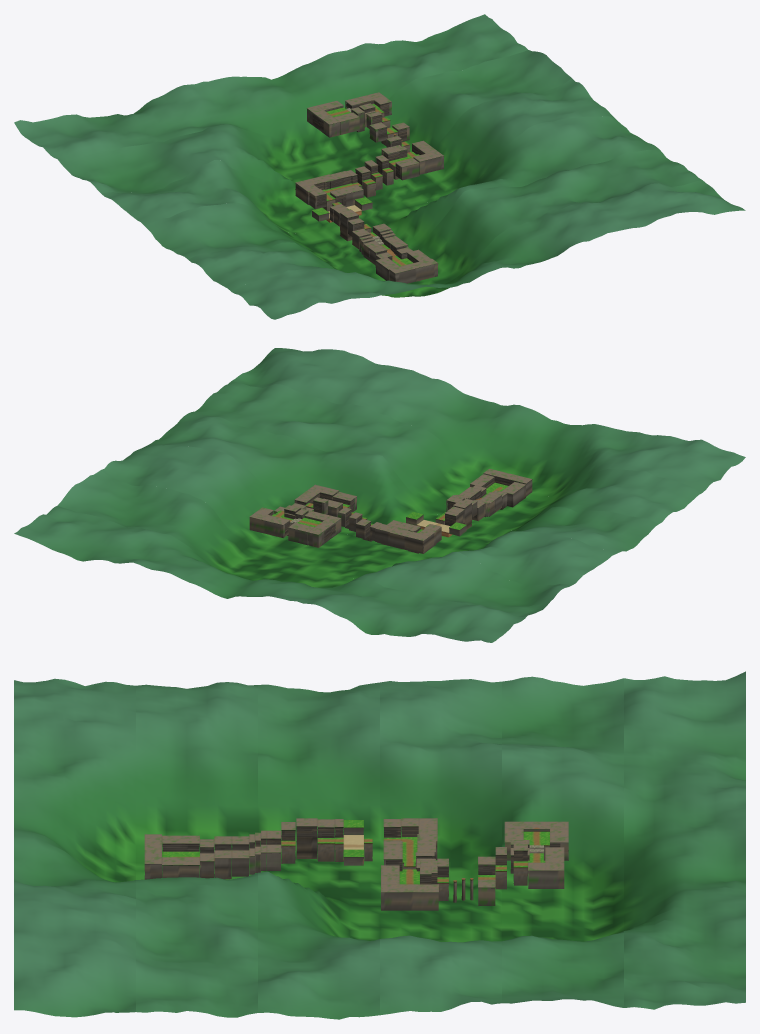
The model's file is sunset_summit_terrain.glb.
3 views of the same model, one above another, from view 1: azimuth 30°, elevation 25°; view 2: azimuth 150°, elevation 25°; view 3: azimuth 270°, elevation 25° (orthographic). The views are drawn at different scales.
Parts seen in each view (by area): view 1: backdrop_5, backdrop_4, backdrop_3, backdrop_2, backdrop_1, backdrop_0, terrain_I, terrain_E, terrain_G, terrain_B, terrain_A, terrain_F (+2 smaller); view 2: backdrop_0, backdrop_1, backdrop_3, backdrop_2, backdrop_5, backdrop_4, terrain_I, terrain_E, terrain_A, terrain_B, terrain_D, terrain_F (+2 smaller); view 3: backdrop_0, backdrop_5, backdrop_2, backdrop_1, backdrop_4, backdrop_3, terrain_G, terrain_I, terrain_B, terrain_A, terrain_C, terrain_E (+3 smaller).
Boxes of the visible parts, <box> form: backdrop_5: <box>14,14,527,161</box>; backdrop_4: <box>58,50,571,193</box>; backdrop_3: <box>101,78,614,233</box>; backdrop_2: <box>145,116,658,265</box>; backdrop_1: <box>188,149,701,295</box>; backdrop_0: <box>232,180,745,319</box>; terrain_I: <box>307,92,391,137</box>; terrain_E: <box>295,166,375,206</box>; terrain_G: <box>369,122,443,174</box>; terrain_B: <box>352,223,412,265</box>; terrain_A: <box>375,249,438,283</box>; terrain_F: <box>364,145,419,190</box>; backdrop_0: <box>232,348,745,496</box>; backdrop_1: <box>188,381,701,530</box>; backdrop_3: <box>101,444,614,585</box>; backdrop_2: <box>146,413,658,557</box>; backdrop_5: <box>14,505,527,642</box>; backdrop_4: <box>58,470,571,616</box>; terrain_I: <box>249,507,341,547</box>; terrain_E: <box>356,519,436,553</box>; terrain_A: <box>470,468,532,507</box>; terrain_B: <box>446,485,507,521</box>; terrain_D: <box>406,511,466,543</box>; terrain_F: <box>321,492,367,531</box>; backdrop_0: <box>14,678,135,1017</box>; backdrop_5: <box>624,671,745,1009</box>; backdrop_2: <box>258,682,379,1019</box>; backdrop_1: <box>136,682,257,1017</box>; backdrop_4: <box>502,676,623,1007</box>; backdrop_3: <box>380,679,501,1015</box>; terrain_G: <box>381,856,495,910</box>; terrain_I: <box>504,821,568,888</box>; terrain_B: <box>200,830,281,879</box>; terrain_A: <box>144,834,199,879</box>; terrain_C: <box>281,818,334,863</box>; terrain_E: <box>383,818,437,871</box>.
Bounding box in the file's own units: 525 × 67.75 × 504.
